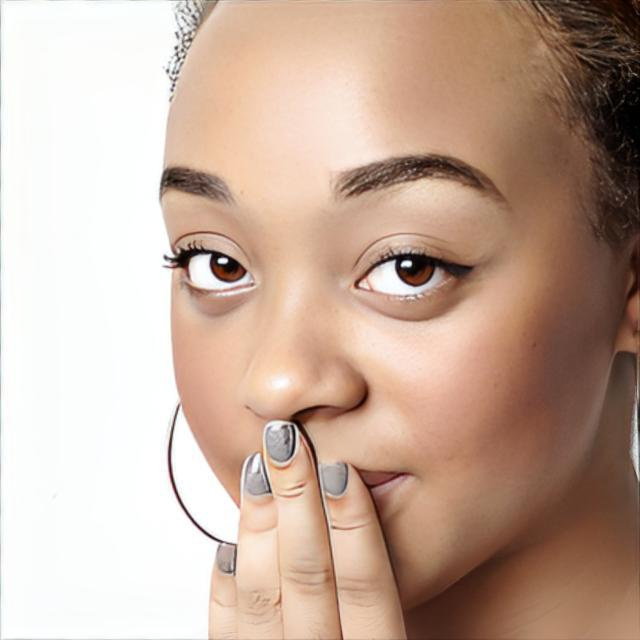surprise: (157, 0, 618, 617)
